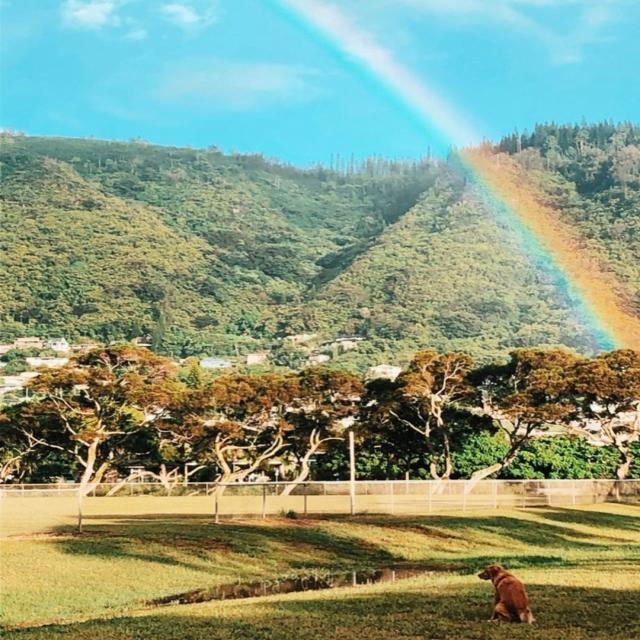squatting: (469, 560, 544, 626)
